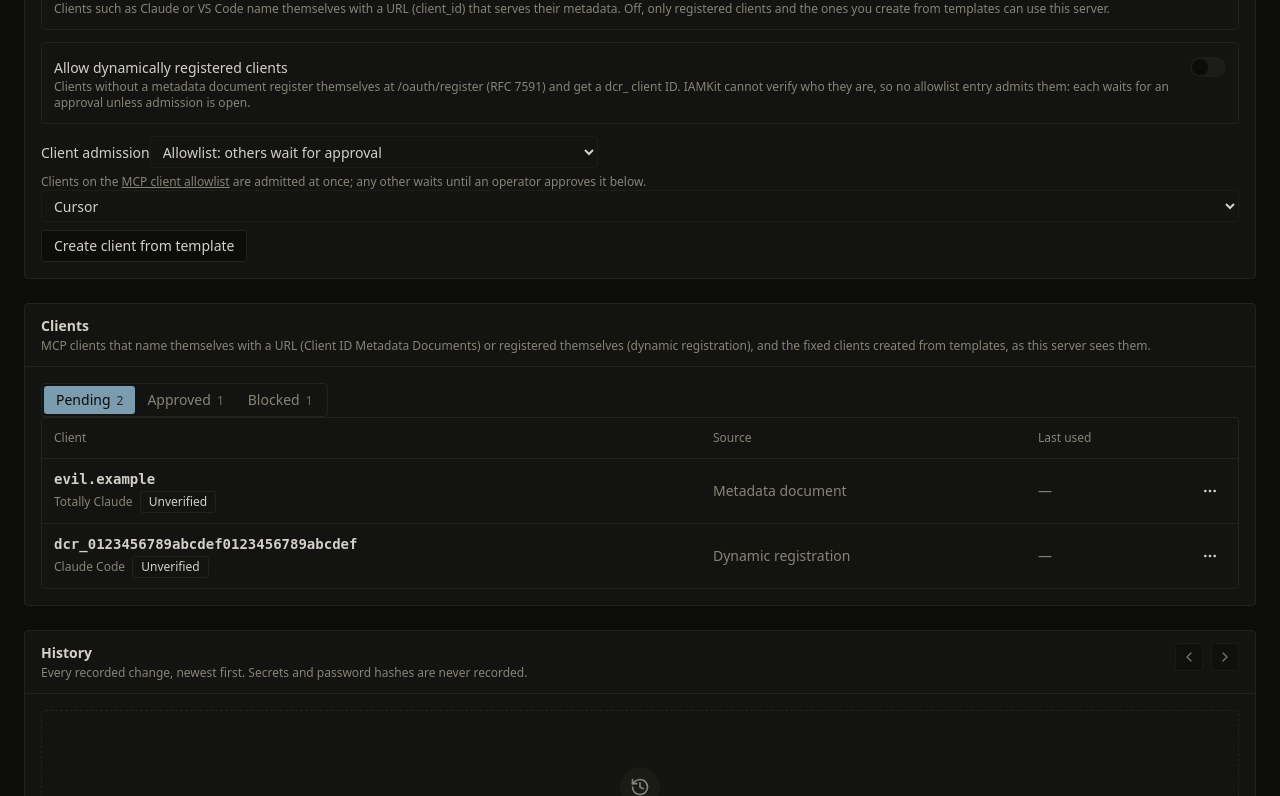
Test: lists pending clients by host, marks document names unverified and counts every state
(page scrolled)
Check: the text "evil.example" is shown, box [54,470,155,486]
Check: the text "Unverified" next to "Totally Claude" is shown, box [149,492,207,510]
Step 1. Click the tab "Approved1" → {"x": 186, "y": 400}, box [135,386,236,414]
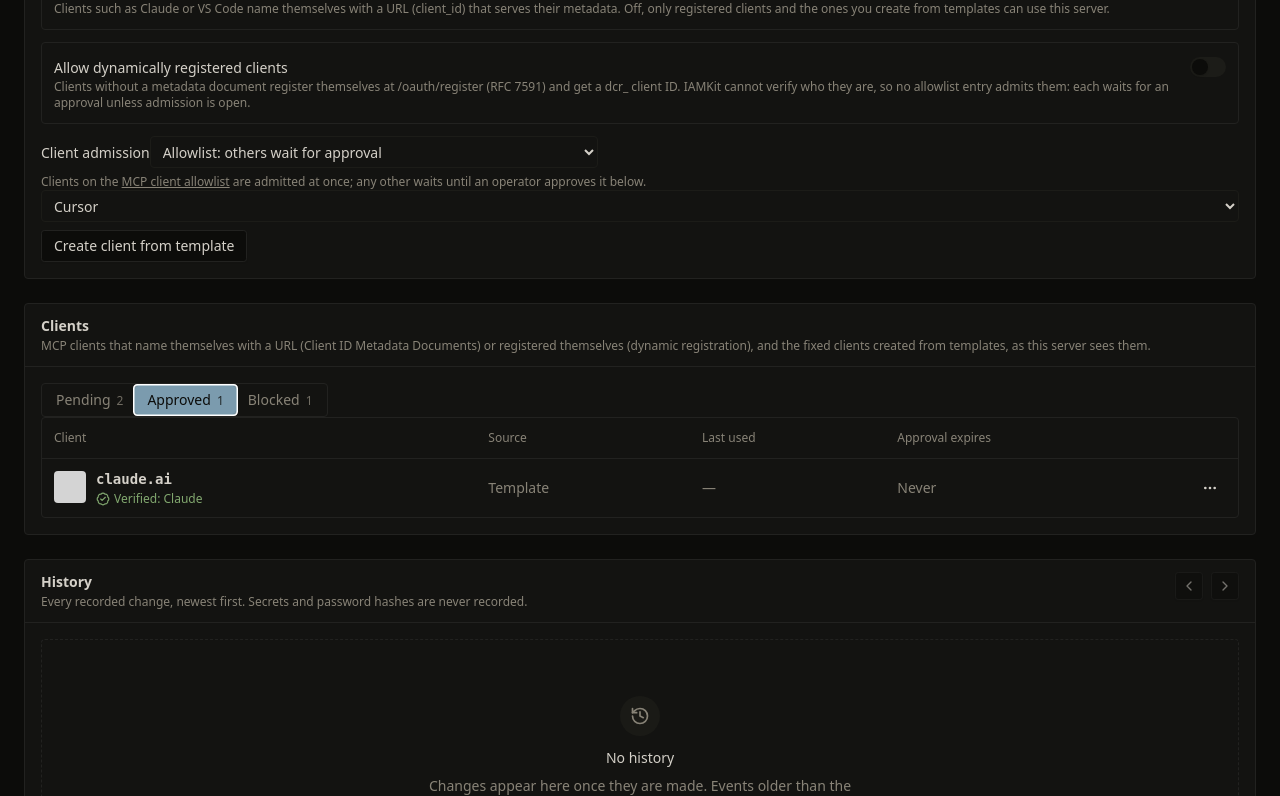
Check: the text "claude.ai" is shown, box [96,470,172,486]
Check: the text "Verified: Claude" is shown, box [96,490,202,506]
Check: the text "Unverified" is gone
